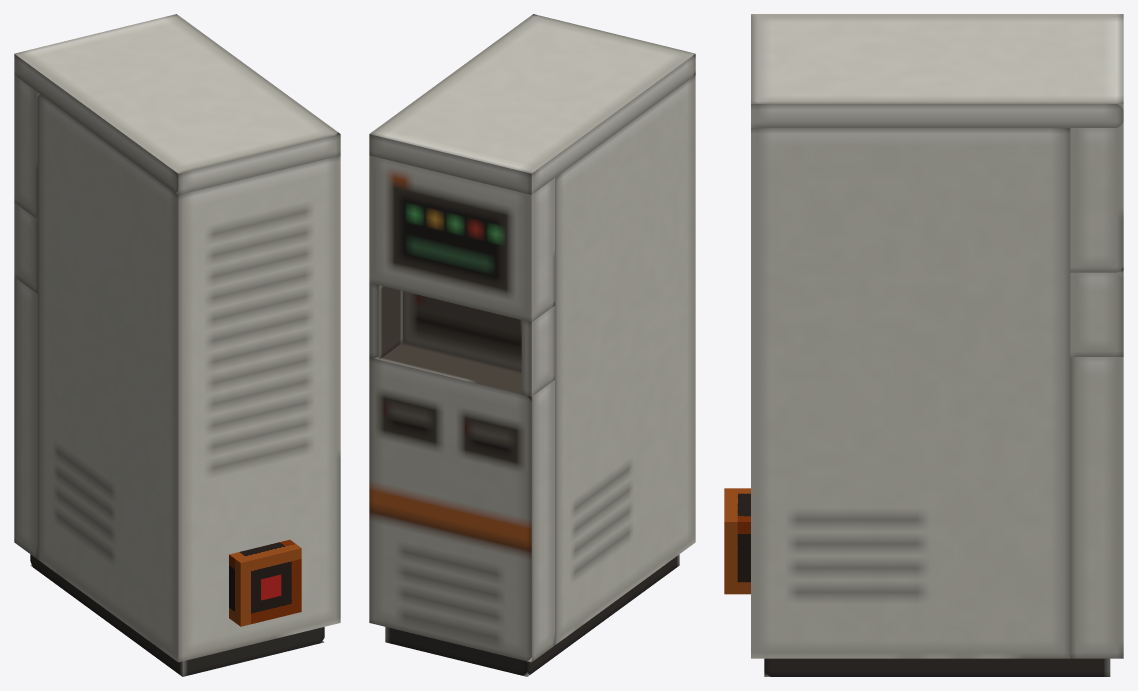
Rendered from era5_floppy_processor_double_sided.obj.
The picture shows the model from 3 angles, left to right: view 1: azimuth 30°, elevation 25°; view 2: azimuth 150°, elevation 25°; view 3: azimuth 270°, elevation 25°; orthographic projection. The views are drawn at different scales.
Parts seen in each view (by area): view 1: era5_floppy_processor; view 2: era5_floppy_processor; view 3: era5_floppy_processor.
Part boxes in pixels (x1,y1,x2,y2): era5_floppy_processor: [14, 14, 340, 676]; era5_floppy_processor: [369, 14, 695, 676]; era5_floppy_processor: [724, 14, 1123, 676].
Size of the model in its own units: 1 by 3 by 1.88.
